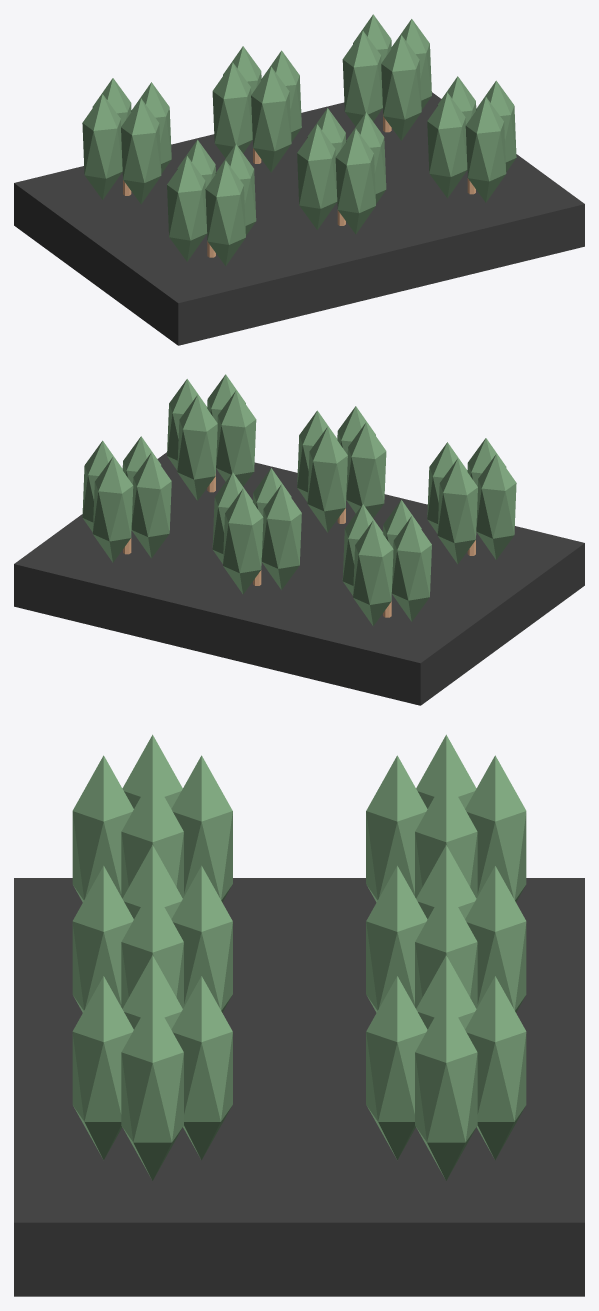
3 renders of one model, top to bottom at view 1: azimuth 30°, elevation 25°; view 2: azimuth 150°, elevation 25°; view 3: azimuth 270°, elevation 25°, orthographic. The views are drawn at different scales.
Visible parts, largest first — view 1: Tray, Leaf.007, Leaf.015, Leaf.019, Leaf.003, Leaf.011, Leaf.023, Leaf.002, Leaf.006, Leaf.018, Leaf.010, Leaf.022 (+13 smaller); view 2: Tray, Leaf.001, Leaf.009, Leaf.021, Leaf.005, Leaf.013, Leaf.017, Leaf.006, Leaf.002, Leaf.022, Leaf.014, Leaf.018 (+13 smaller); view 3: Tray, Leaf.016, Leaf.020, Leaf.019, Leaf.021, Leaf.017, Leaf.023, Leaf.011, Leaf.013, Leaf.003, Leaf.005, Leaf.001 (+13 smaller).
Part boxes in pixels (bbox=[...]): Tray: bbox=[14, 92, 584, 345]; Leaf.007: bbox=[121, 98, 161, 204]; Leaf.015: bbox=[251, 66, 291, 172]; Leaf.019: bbox=[465, 97, 506, 202]; Leaf.003: bbox=[205, 160, 245, 266]; Leaf.011: bbox=[335, 128, 375, 234]; Leaf.023: bbox=[381, 35, 421, 140]; Leaf.002: bbox=[167, 156, 207, 261]; Leaf.006: bbox=[82, 94, 122, 199]; Leaf.018: bbox=[427, 92, 467, 198]; Leaf.010: bbox=[297, 124, 337, 229]; Leaf.022: bbox=[342, 31, 382, 126]; Tray: bbox=[14, 452, 584, 705]; Leaf.001: bbox=[437, 458, 477, 564]; Leaf.009: bbox=[307, 426, 347, 532]; Leaf.021: bbox=[92, 457, 133, 562]; Leaf.005: bbox=[353, 520, 393, 626]; Leaf.013: bbox=[223, 488, 263, 594]; Leaf.017: bbox=[177, 395, 217, 500]; Leaf.006: bbox=[391, 516, 431, 621]; Leaf.002: bbox=[476, 454, 516, 559]; Leaf.022: bbox=[131, 452, 171, 558]; Leaf.014: bbox=[261, 484, 301, 589]; Leaf.018: bbox=[216, 391, 256, 486]; Tray: bbox=[14, 878, 584, 1296]; Leaf.016: bbox=[121, 996, 183, 1180]; Leaf.020: bbox=[415, 996, 477, 1180]; Leaf.019: bbox=[72, 976, 133, 1160]; Leaf.021: bbox=[465, 976, 526, 1160]; Leaf.017: bbox=[171, 976, 232, 1160]; Leaf.023: bbox=[366, 976, 427, 1160]; Leaf.011: bbox=[72, 866, 133, 1012]; Leaf.013: bbox=[465, 866, 526, 1012]; Leaf.003: bbox=[72, 755, 133, 902]; Leaf.005: bbox=[465, 755, 526, 902]; Leaf.001: bbox=[171, 755, 232, 902].
Bounding box in the file's own units: 0.5 × 0.175 × 0.35.
Materials: 1 (1 with a texture image).
